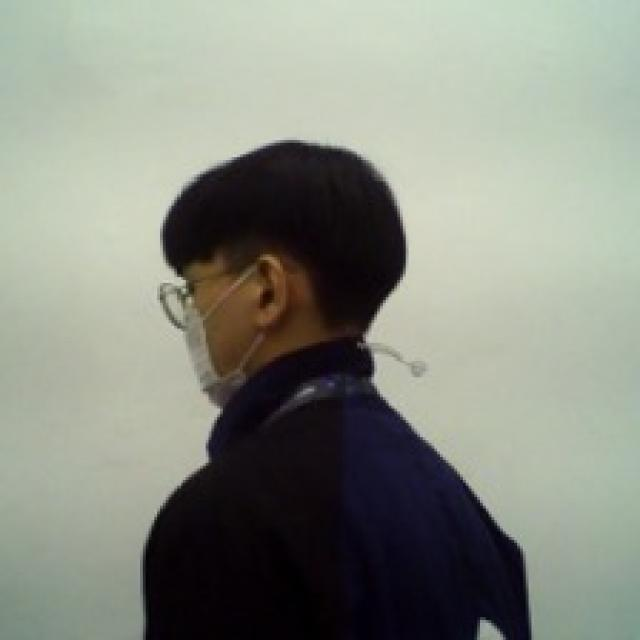mask: (140, 259, 286, 409)
no_gloves: (156, 137, 412, 340)
